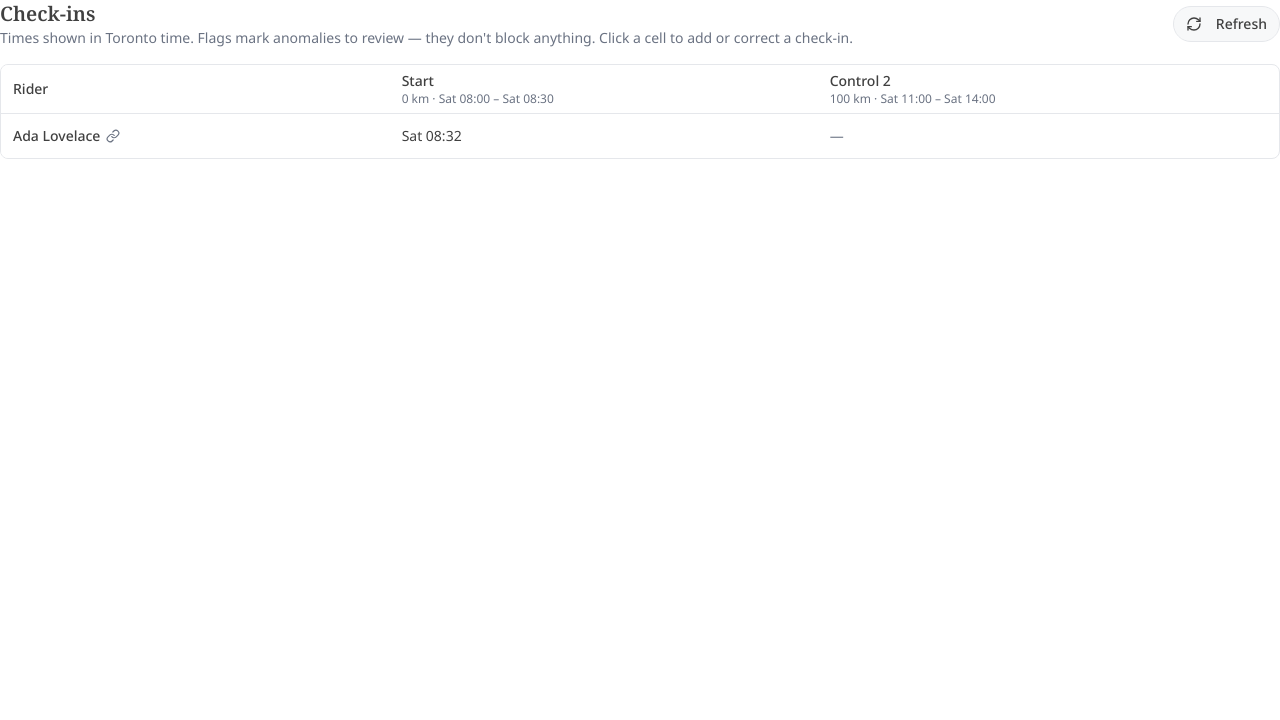
Scenario: EventCheckinsGrid correction dialog map › shows a "no GPS fix" note and no map for a non-GPS check-in
What coordinates should you click on to do the following:
click the text "Sat 08:32"
I would click on:
 (432, 135)
Its box is left=402, top=126, right=462, bottom=144.
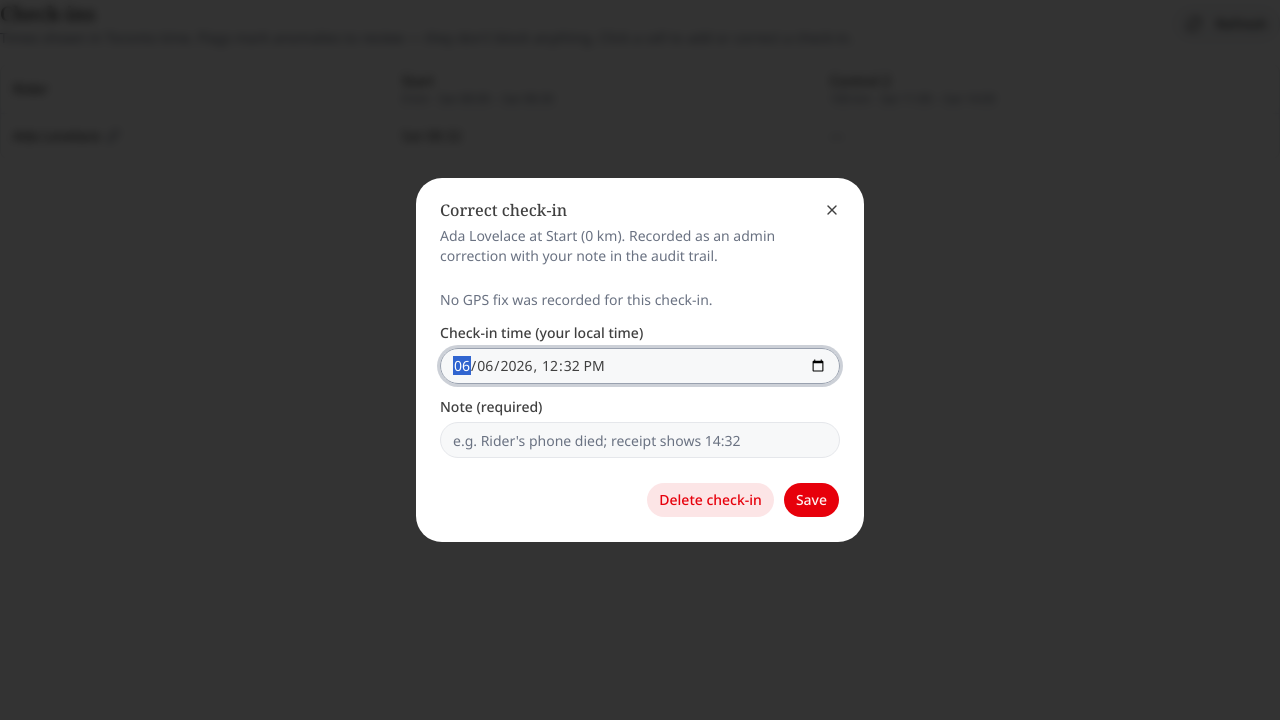
Now the text "No GPS fix was recorded for this check-in." is shown, box left=440, top=290, right=713, bottom=309
